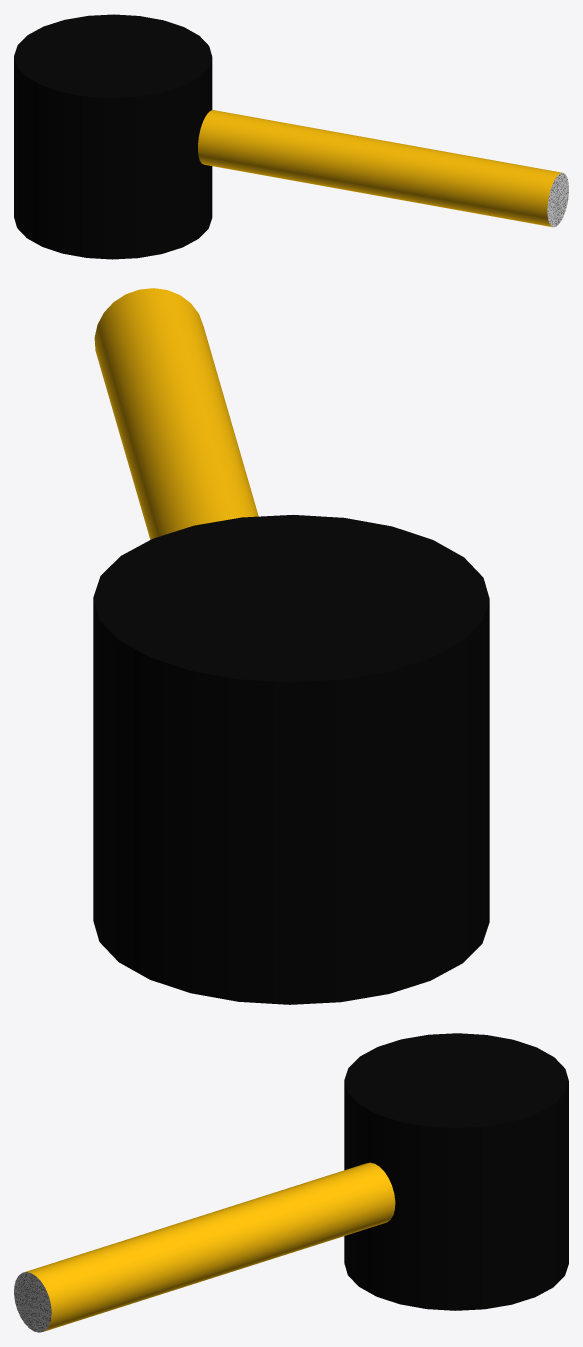
The model's file is mallet_03_origin_gt_1.dae.
3 renders of one model, top to bottom at view 1: azimuth 30°, elevation 25°; view 2: azimuth 150°, elevation 25°; view 3: azimuth 270°, elevation 25°, orthographic. The views are drawn at different scales.
Parts seen in each view (by area): view 1: Untitled (×3); view 2: Untitled (×2); view 3: Untitled (×3).
Boxes of the visible parts, x1=… form: Untitled (×3): x1=14, y1=14, x2=568, y2=259; Untitled (×2): x1=93, y1=288, x2=489, y2=1004; Untitled (×3): x1=14, y1=1033, x2=568, y2=1332.
Size of the model in its own units: 4.62 by 5.4 by 1.96.
